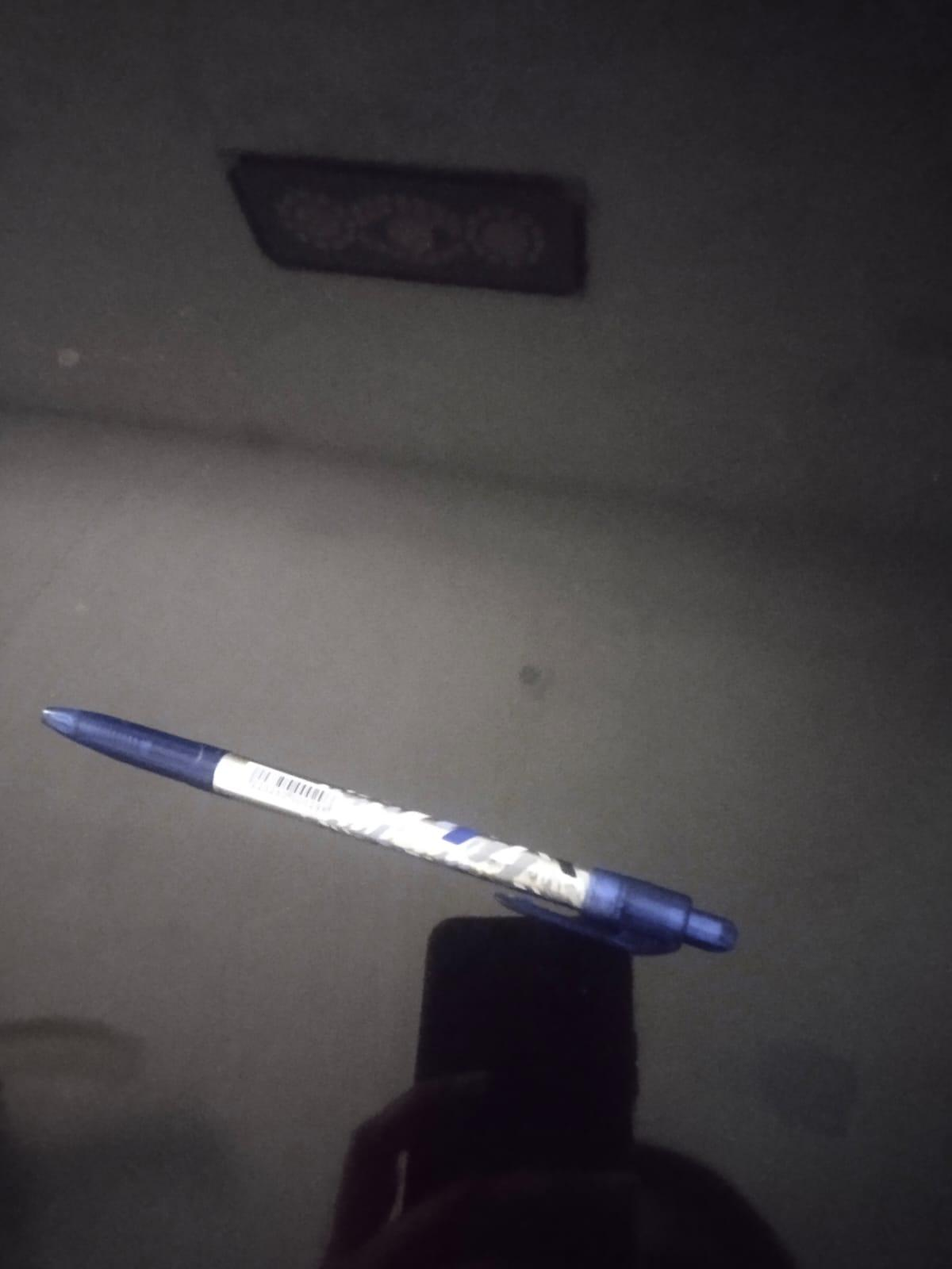pen: (43, 707, 736, 953)
